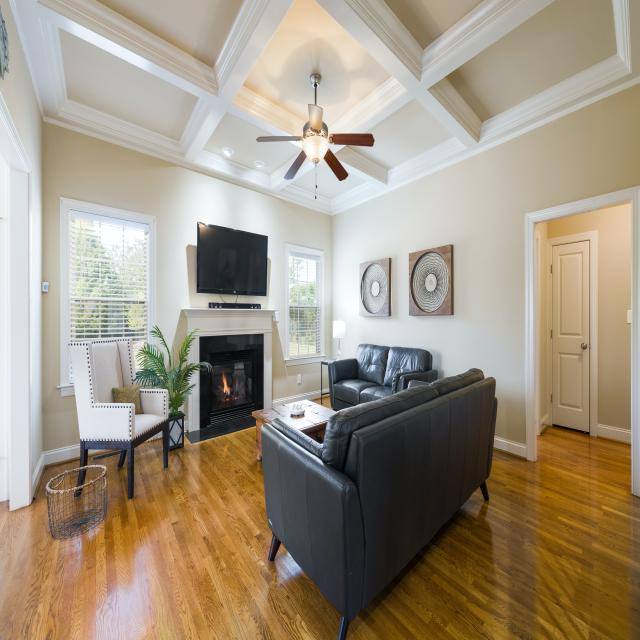floor: (0, 426, 342, 640), (346, 426, 640, 640)
wall: (332, 83, 640, 445), (42, 121, 332, 452), (547, 203, 632, 431), (9, 169, 29, 512), (409, 244, 454, 341), (536, 222, 547, 420), (359, 258, 391, 316)
